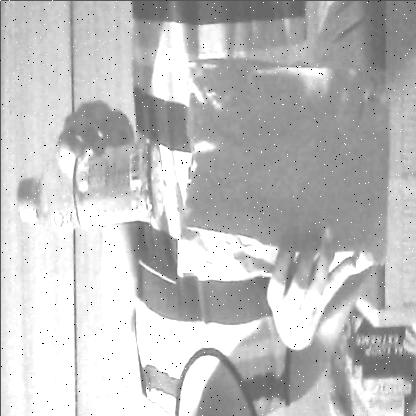Plastic Bottle: (12, 130, 166, 245)
